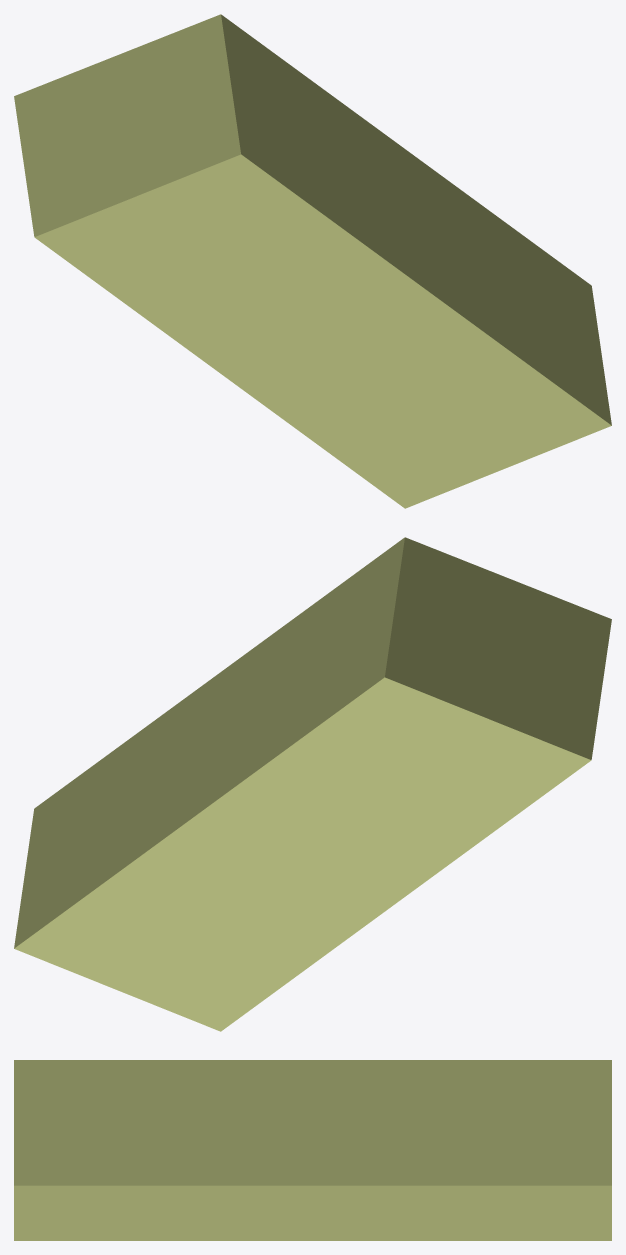
3 renders of one model, top to bottom at view 1: azimuth 30°, elevation 25°; view 2: azimuth 150°, elevation 25°; view 3: azimuth 270°, elevation 25°, orthographic. The views are drawn at different scales.
Parts seen in each view (by area): view 1: 0_1_3_2_2_1_1_0_3; view 2: 0_1_3_2_2_1_1_0_3; view 3: 0_1_3_2_2_1_1_0_3.
Boxes of the visible parts, <box> form: 0_1_3_2_2_1_1_0_3: <box>14,14,611,508</box>; 0_1_3_2_2_1_1_0_3: <box>14,537,611,1031</box>; 0_1_3_2_2_1_1_0_3: <box>14,1060,611,1240</box>.
Size of the model in its own units: 3.18 by 2.38 by 9.
